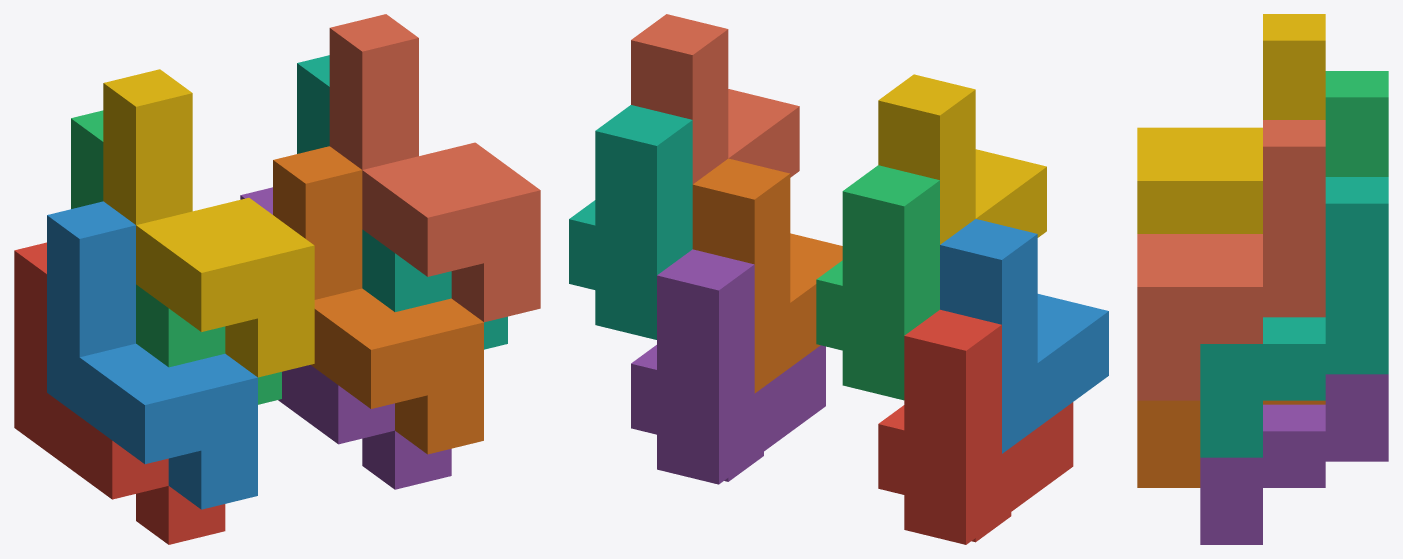
The model's file is tiling.obj.
3 renders of one model, left to right at view 1: azimuth 30°, elevation 25°; view 2: azimuth 150°, elevation 25°; view 3: azimuth 270°, elevation 25°, orthographic. The views are drawn at different scales.
Visible parts, largest first — view 1: copy_1_domain_4, copy_1_domain_8, copy_1_domain_2, copy_1_domain_6, copy_1_domain_1, copy_1_domain_5, copy_1_domain_7, copy_1_domain_3; view 2: copy_1_domain_1, copy_1_domain_5, copy_1_domain_3, copy_1_domain_7, copy_1_domain_2, copy_1_domain_6, copy_1_domain_8, copy_1_domain_4; view 3: copy_1_domain_8, copy_1_domain_7, copy_1_domain_4, copy_1_domain_5, copy_1_domain_3, copy_1_domain_6.
Boxes of the visible parts, x1,y1,x2,y2 form: copy_1_domain_4: (103, 69, 314, 377); copy_1_domain_8: (329, 14, 540, 322); copy_1_domain_2: (47, 201, 257, 509); copy_1_domain_6: (273, 146, 483, 454); copy_1_domain_1: (14, 242, 225, 544); copy_1_domain_5: (240, 187, 451, 489); copy_1_domain_7: (297, 55, 507, 349); copy_1_domain_3: (71, 110, 281, 404); copy_1_domain_1: (878, 309, 1073, 544); copy_1_domain_5: (631, 249, 825, 484); copy_1_domain_3: (816, 165, 939, 400); copy_1_domain_7: (569, 105, 692, 339); copy_1_domain_2: (940, 219, 1108, 453); copy_1_domain_6: (692, 158, 842, 393); copy_1_domain_8: (631, 14, 799, 184); copy_1_domain_4: (878, 74, 1046, 244); copy_1_domain_8: (1137, 120, 1325, 400); copy_1_domain_7: (1200, 177, 1388, 457); copy_1_domain_4: (1137, 14, 1325, 233); copy_1_domain_5: (1200, 374, 1388, 544); copy_1_domain_3: (1325, 71, 1388, 176); copy_1_domain_6: (1137, 400, 1325, 487).
Size of the model in its own units: 7 by 7 by 4.
